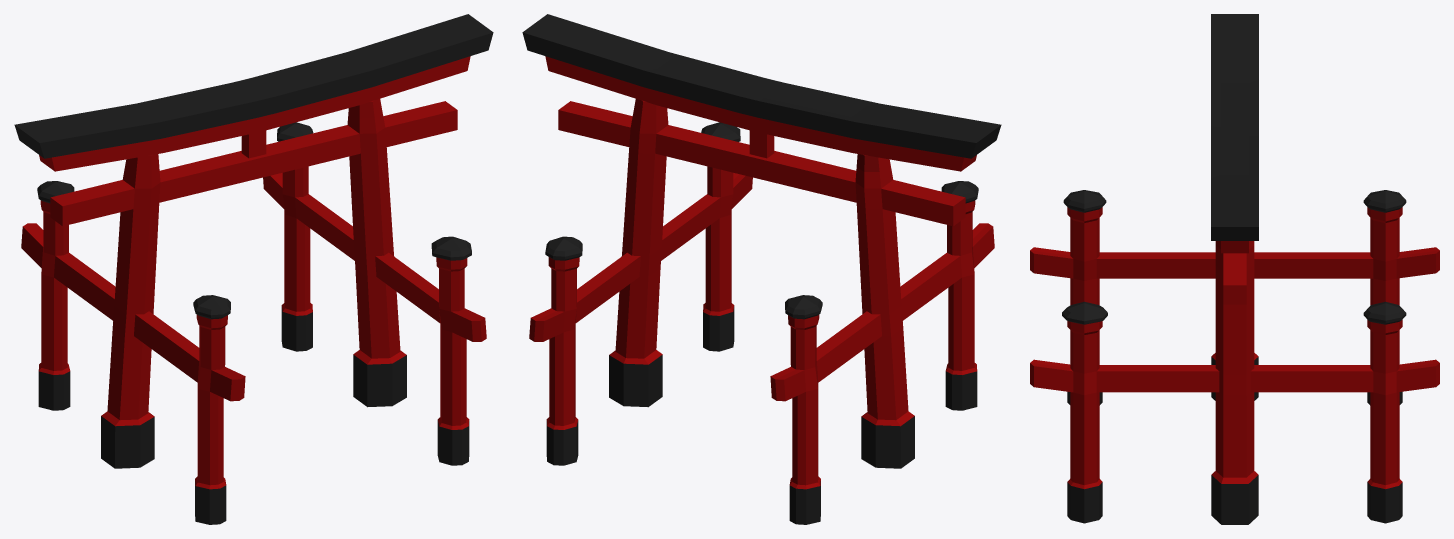
File: NNJ0610010.fbx
The picture shows the model from 3 angles, left to right: view 1: azimuth 30°, elevation 25°; view 2: azimuth 150°, elevation 25°; view 3: azimuth 270°, elevation 25°; orthographic projection. The views are drawn at different scales.
Parts seen in each view (by area): view 1: smNNJ0610010; view 2: smNNJ0610010; view 3: smNNJ0610010.
Boxes of the visible parts, box(x1,y1,x2,y2) form: smNNJ0610010: box(14, 14, 493, 524); smNNJ0610010: box(522, 14, 1001, 524); smNNJ0610010: box(1030, 14, 1439, 524).
Bounding box in the file's own units: 541 × 401 × 440.
1 material, 1 textured.
